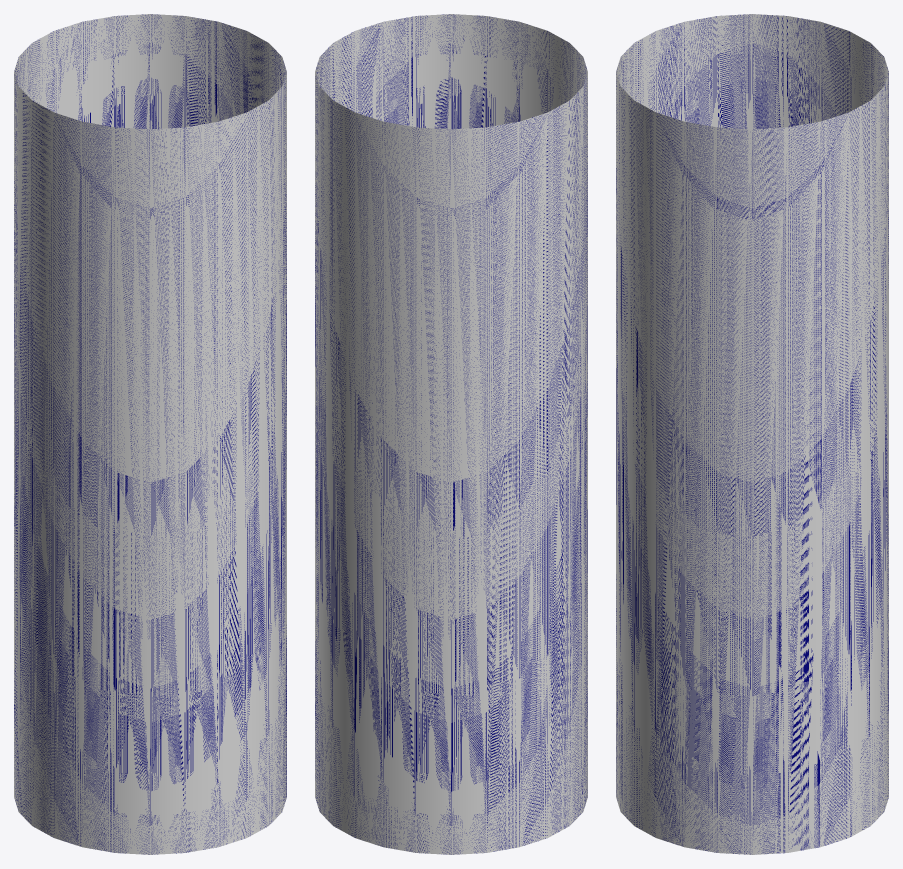
The model's file is original-10.obj.
3 renders of one model, left to right at view 1: azimuth 30°, elevation 25°; view 2: azimuth 150°, elevation 25°; view 3: azimuth 270°, elevation 25°, orthographic.
Visible parts, largest first — view 1: 3dw.59a07a01d7c3fdb03c1d9add3a87bd2d/Model/mesh1/mesh1-geometry/; view 2: 3dw.59a07a01d7c3fdb03c1d9add3a87bd2d/Model/mesh1/mesh1-geometry/; view 3: 3dw.59a07a01d7c3fdb03c1d9add3a87bd2d/Model/mesh1/mesh1-geometry/.
Part boxes in pixels (x1,y1,x2,y2): 3dw.59a07a01d7c3fdb03c1d9add3a87bd2d/Model/mesh1/mesh1-geometry/: (14,14,286,854); 3dw.59a07a01d7c3fdb03c1d9add3a87bd2d/Model/mesh1/mesh1-geometry/: (315,14,587,854); 3dw.59a07a01d7c3fdb03c1d9add3a87bd2d/Model/mesh1/mesh1-geometry/: (616,14,888,854).
Size of the model in its own units: 0.0985 by 0.2889 by 0.0985.
